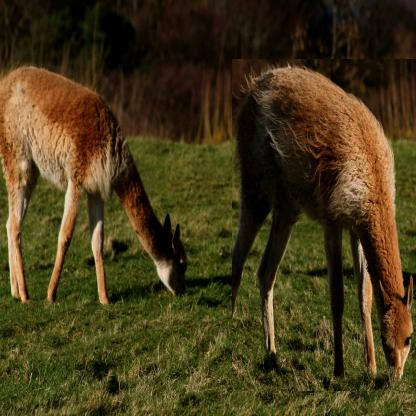Deer: (232, 60, 416, 392), (0, 59, 188, 308)
